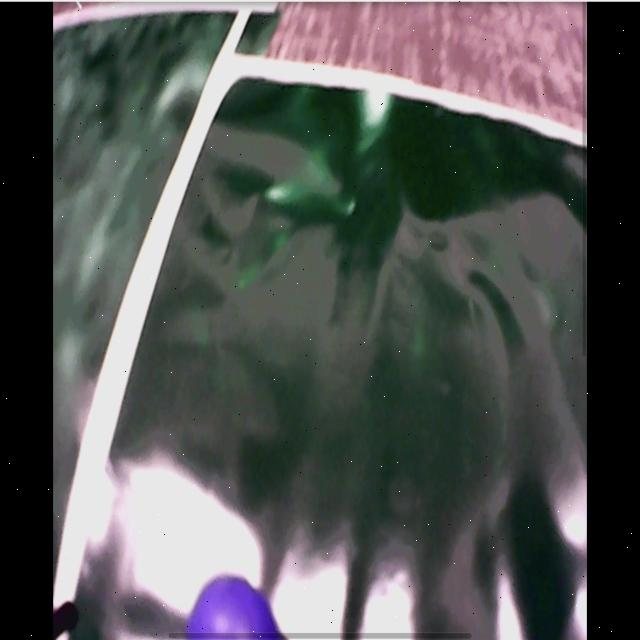ball: (186, 575, 282, 640)
